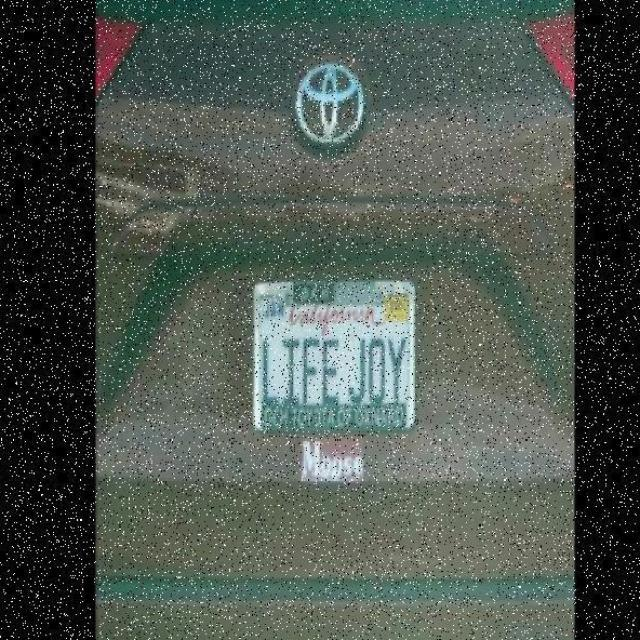license-plate: (255, 286, 418, 446)
